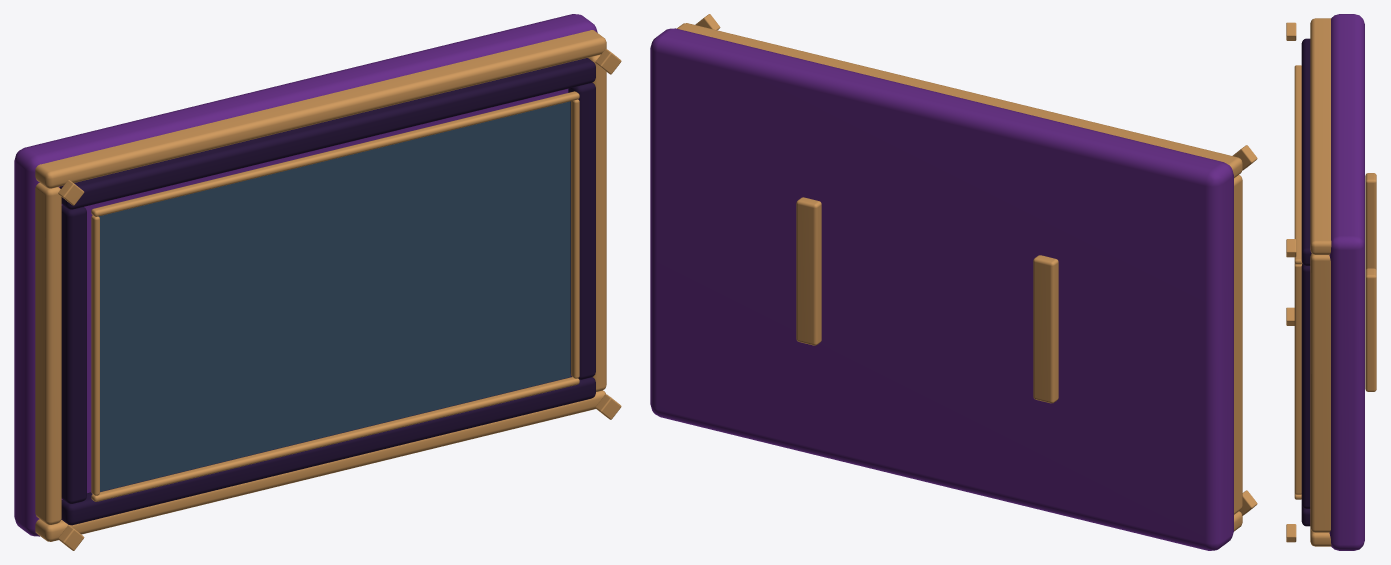
Rendered from gallery-landscape.glb.
3 renders of one model, left to right at view 1: azimuth 30°, elevation 25°; view 2: azimuth 150°, elevation 25°; view 3: azimuth 270°, elevation 25°, orthographic. The views are drawn at different scales.
Parts seen in each view (by area): view 1: screen_surface, rear_mount, outer_brass_top, velvet_reveal_top, velvet_reveal_bottom, outer_brass_side, velvet_reveal_side, outer_brass_bottom, velvet_reveal_side.001, inner_bead_top, inner_bead_bottom, outer_brass_side.001 (+2 smaller); view 2: rear_mount, outer_brass_top, wall_mount, wall_mount.001, outer_brass_side; view 3: rear_mount, outer_brass_side.001, outer_brass_top, velvet_reveal_side.001, velvet_reveal_top, inner_bead_side.001, inner_bead_top, wall_mount.001, wall_mount, outer_brass_bottom, corner_jewel.001, corner_jewel.002 (+3 smaller).
Boxes of the visible parts, x1,y1,x2,y2 form: screen_surface: (98, 101, 570, 491); rear_mount: (14, 14, 597, 536); outer_brass_top: (35, 30, 606, 188); velvet_reveal_top: (59, 58, 595, 209); velvet_reveal_bottom: (61, 375, 595, 525); outer_brass_side: (35, 183, 61, 524); velvet_reveal_side: (61, 205, 86, 503); outer_brass_bottom: (35, 390, 605, 541); velvet_reveal_side.001: (568, 82, 595, 379); inner_bead_top: (91, 91, 579, 216); inner_bead_bottom: (91, 377, 579, 501); outer_brass_side.001: (588, 54, 606, 391); rear_mount: (650, 28, 1233, 550); outer_brass_top: (677, 23, 1242, 177); wall_mount: (1033, 255, 1058, 403); wall_mount.001: (796, 197, 821, 345); outer_brass_side: (1234, 175, 1242, 514); rear_mount: (1329, 14, 1364, 550); outer_brass_side.001: (1310, 253, 1330, 532); outer_brass_top: (1310, 18, 1331, 254); velvet_reveal_side.001: (1301, 264, 1310, 508); velvet_reveal_top: (1301, 38, 1311, 265); inner_bead_side.001: (1294, 264, 1301, 494); inner_bead_top: (1294, 65, 1301, 264); wall_mount.001: (1365, 268, 1376, 391); wall_mount: (1365, 173, 1376, 270); outer_brass_bottom: (1310, 528, 1331, 546); corner_jewel.001: (1286, 22, 1296, 40); corner_jewel.002: (1286, 524, 1296, 542).
Size of the model in its own units: 1.35 by 0.86 by 0.2245.
